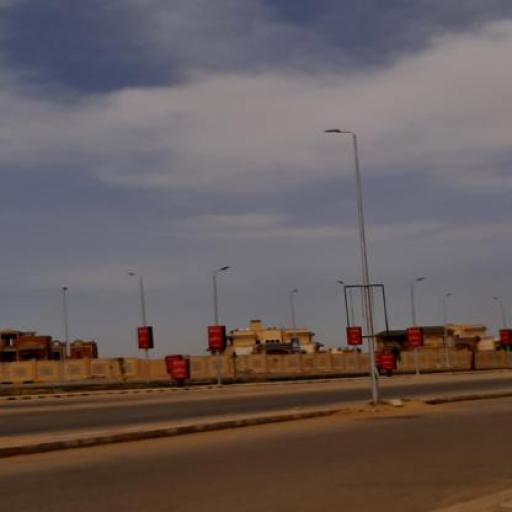street light: (324, 130, 381, 404), (126, 272, 152, 382), (212, 265, 229, 385), (410, 276, 427, 374), (62, 288, 72, 383), (442, 293, 451, 368)
